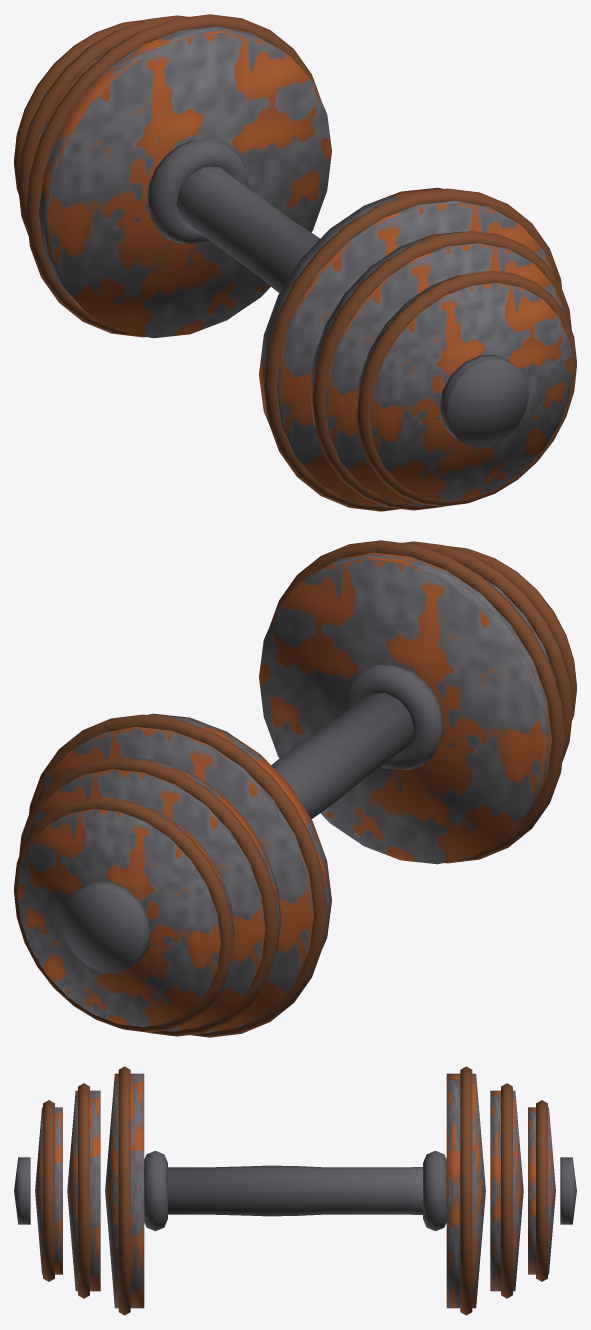
Rendered from RustyDumbbell.glb.
3 renders of one model, top to bottom at view 1: azimuth 30°, elevation 25°; view 2: azimuth 150°, elevation 25°; view 3: azimuth 270°, elevation 25°, orthographic. The views are drawn at different scales.
Visible parts, largest first — view 1: RustyDumbbell; view 2: RustyDumbbell; view 3: RustyDumbbell.
Boxes of the visible parts, x1,y1,x2,y2 form: RustyDumbbell: (14, 14, 576, 511); RustyDumbbell: (14, 540, 576, 1037); RustyDumbbell: (14, 1066, 576, 1315).
Size of the model in its own units: 0.89 by 0.89 by 2.01.
1 material, 1 textured.
